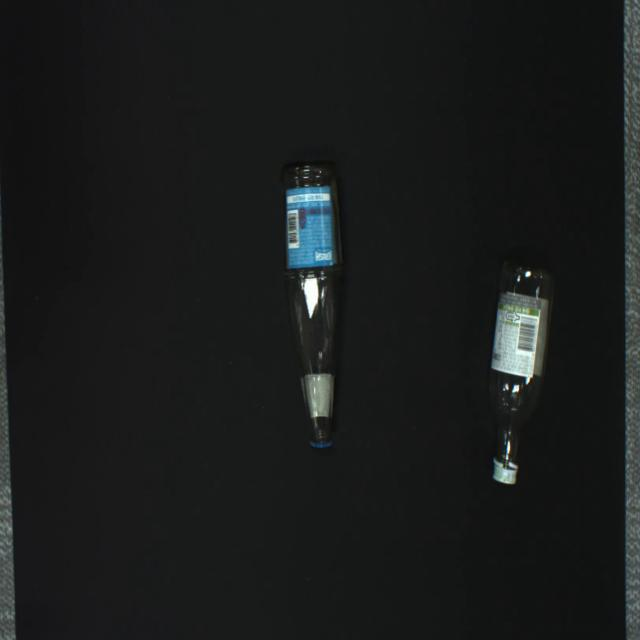beer-bottle: (283, 163, 343, 449)
soju-bottle: (489, 264, 554, 485)
